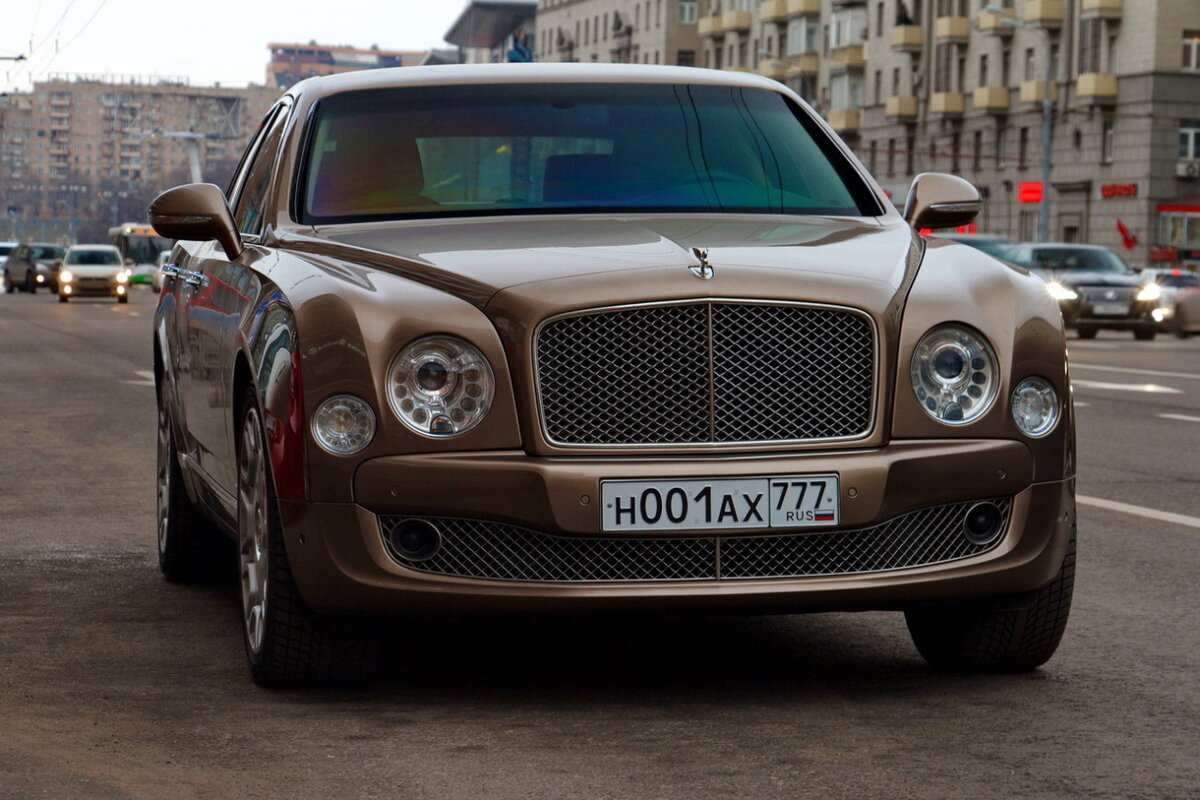number_plate: (598, 460, 847, 534)
